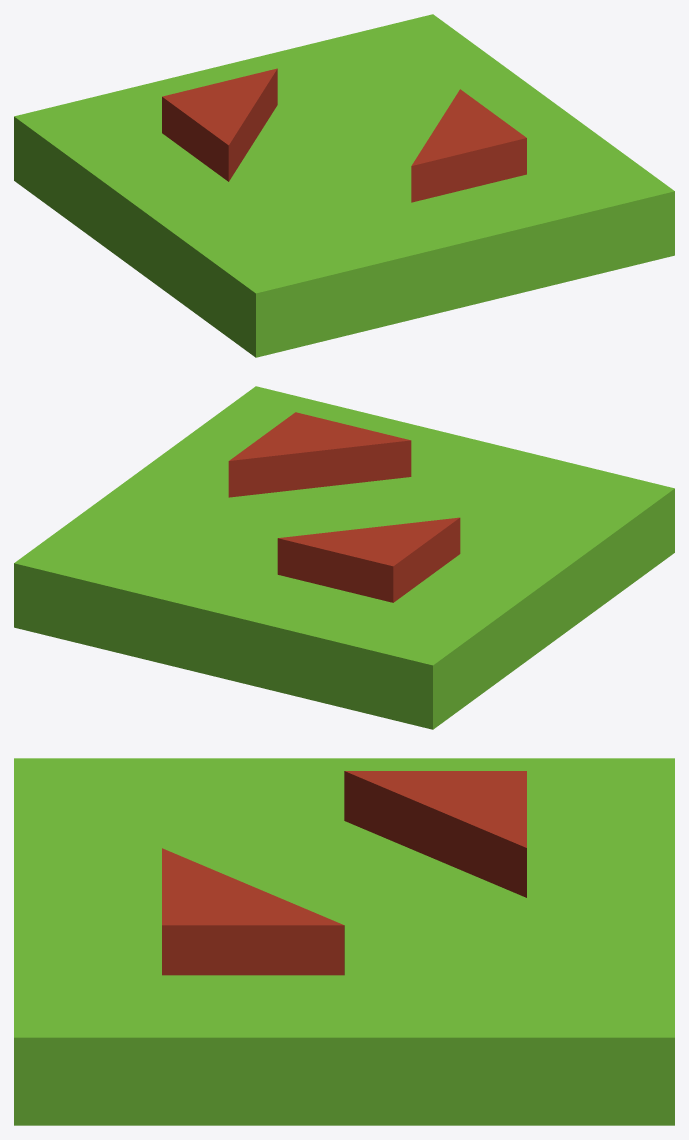
File: Obstacle_Triangle.FBX
3 views of the same model, one above another, from view 1: azimuth 30°, elevation 25°; view 2: azimuth 150°, elevation 25°; view 3: azimuth 270°, elevation 25° (orthographic). The views are drawn at different scales.
Parts seen in each view (by area): view 1: Obstacle_triangle_01, Walls; view 2: Obstacle_triangle_01, Walls; view 3: Obstacle_triangle_01, Walls.
Boxes of the visible parts, x1,y1,x2,y2 form: Obstacle_triangle_01: [14, 14, 674, 357]; Walls: [162, 68, 526, 202]; Obstacle_triangle_01: [14, 386, 674, 729]; Walls: [228, 412, 460, 602]; Obstacle_triangle_01: [14, 758, 674, 1125]; Walls: [162, 771, 526, 975].
Size of the model in its own units: 0.9999 by 0.9999 by 0.23.
